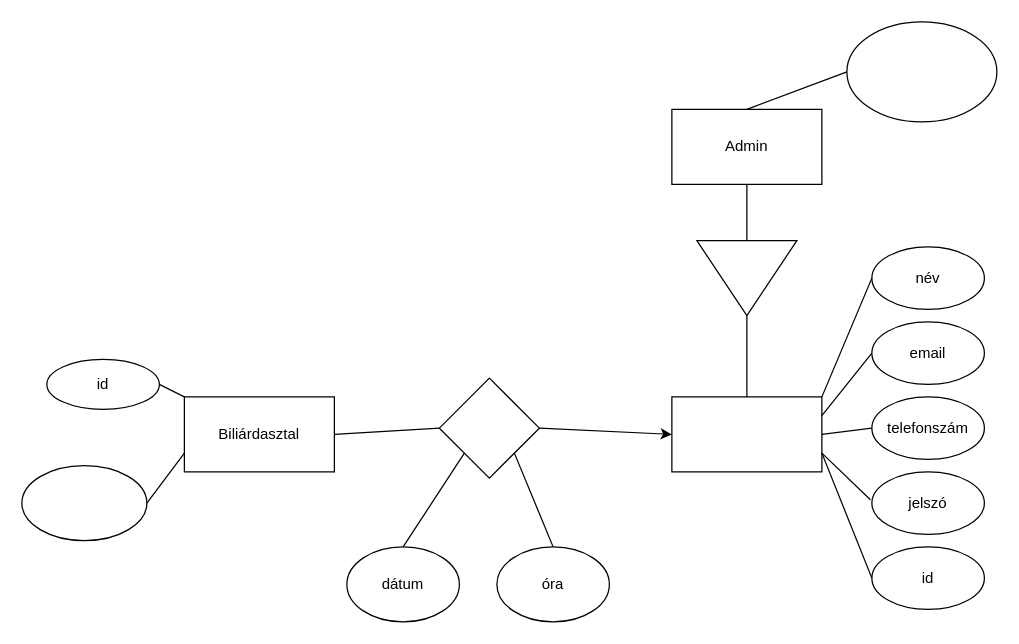
Some shapes in this 1019 by 644 pixel diagram are drawn without their labels. The shapes that lost their labels are listed below. From the top down, each one's centre as x and y in pixels, then its label:
At point 921,71: "adminID".
At point 488,427: "foglal".
At point 746,434: "felhasználó".
At point 84,502: "fogalt-e".
